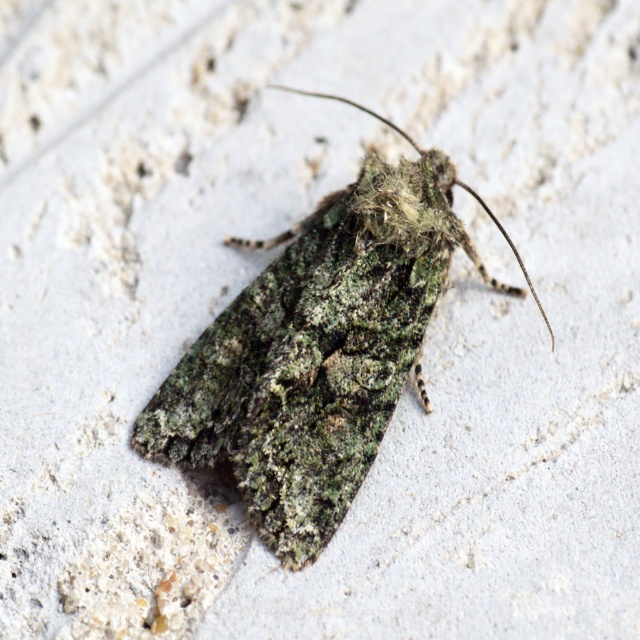Moths and butterflies: (127, 80, 557, 577)
